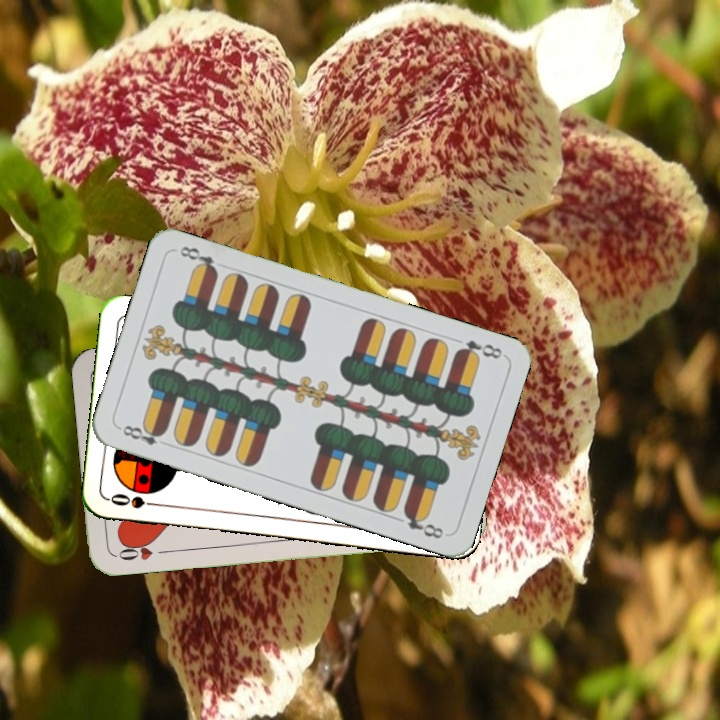E8: (115, 421, 172, 450), (451, 335, 505, 363)
HO: (112, 537, 171, 563)
SO: (106, 489, 165, 511)
